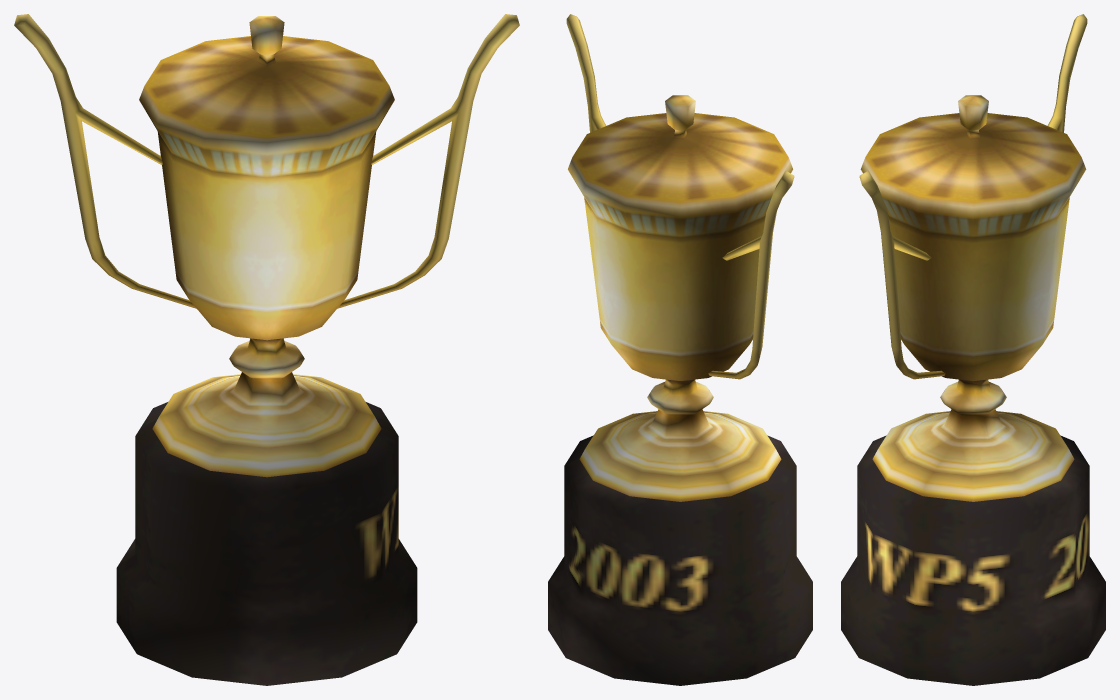
File: ic_owner.icn.obj
3 renders of one model, left to right at view 1: azimuth 30°, elevation 25°; view 2: azimuth 150°, elevation 25°; view 3: azimuth 270°, elevation 25°, orthographic. The views are drawn at different scales.
Bounding box in the file's own units: 3.23 × 4.95 × 2.21.
1 material, 1 textured.
